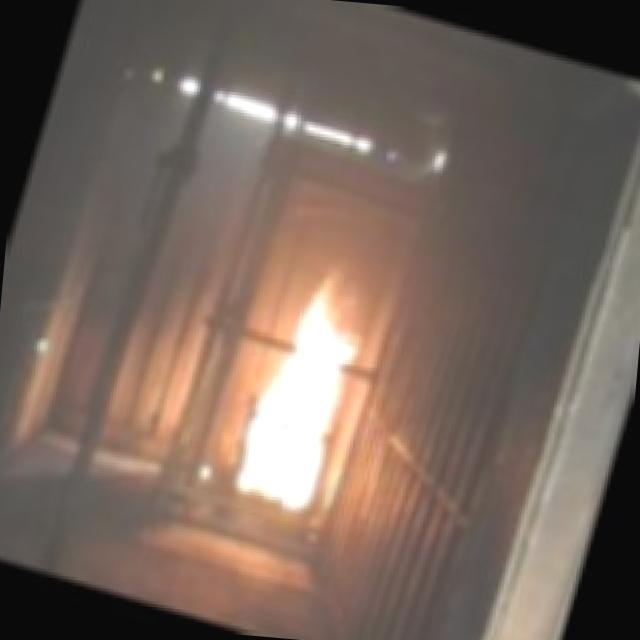fire: (209, 242, 393, 535)
